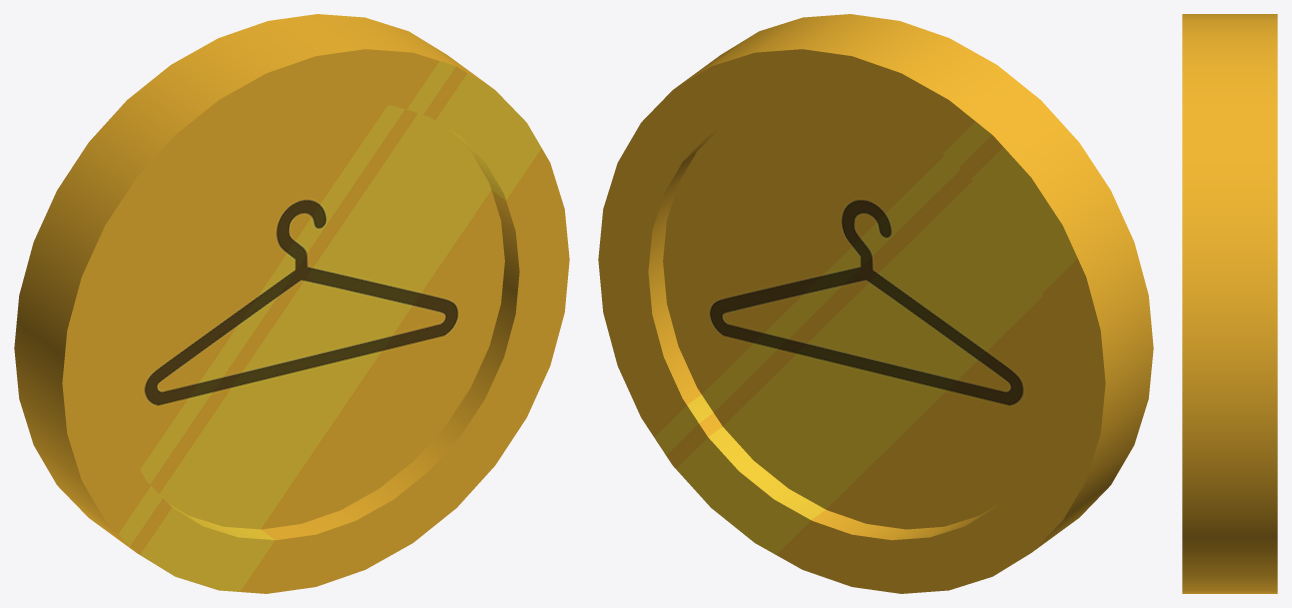
Rendered from coin.fbx.
The picture shows the model from 3 angles, left to right: view 1: azimuth 30°, elevation 25°; view 2: azimuth 150°, elevation 25°; view 3: azimuth 270°, elevation 25°; orthographic projection.
Parts seen in each view (by area): view 1: Coin; view 2: Coin; view 3: Coin.
Part boxes in pixels (left/top/right/bottom): Coin: left=14, top=14, right=569, bottom=593; Coin: left=598, top=14, right=1153, bottom=593; Coin: left=1182, top=14, right=1277, bottom=593.
Bounding box in the file's own units: 20 × 20 × 3.28.
